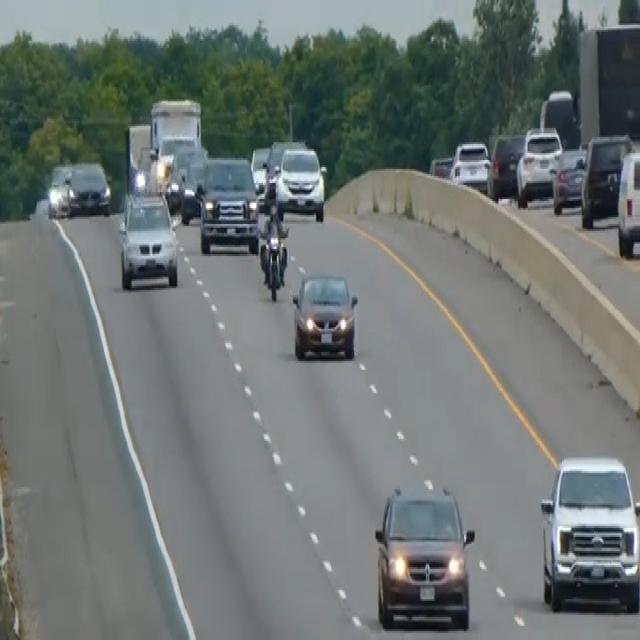car: (197, 153, 259, 254), (291, 268, 358, 361), (117, 190, 178, 290), (579, 130, 631, 228), (275, 144, 327, 220), (515, 125, 563, 206), (165, 142, 206, 208), (66, 158, 111, 217), (616, 146, 639, 258), (487, 130, 524, 199), (550, 146, 587, 213), (448, 137, 491, 192), (264, 137, 305, 194), (178, 153, 208, 224), (46, 162, 71, 218), (250, 144, 271, 194), (428, 153, 453, 179)
jeep: (538, 452, 639, 614)
minivan: (371, 478, 476, 631)
motorcycle: (256, 210, 289, 300)
truck: (575, 20, 639, 151)
